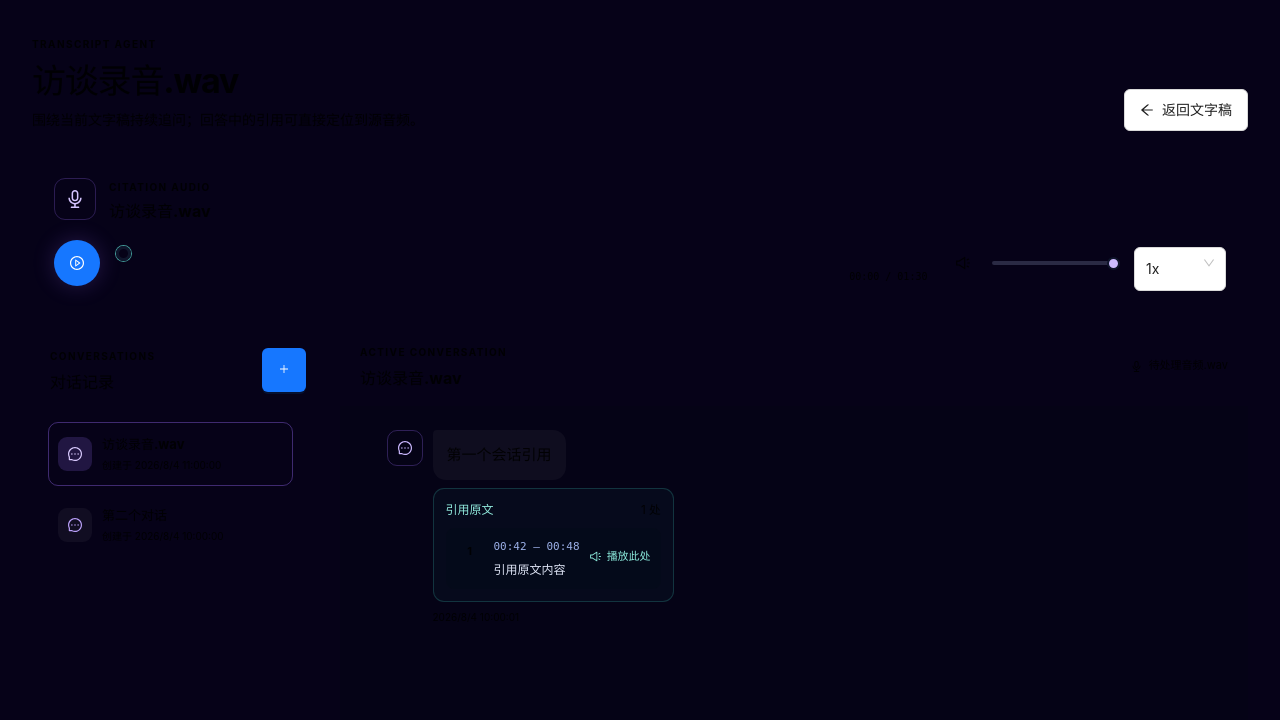
Test: AgentConversationPage › does not retain an active citation after switching conversations
What coordinates should you click on to do the following:
click the button with aria-label "播放引用 1，00:42 到 00:48"
I would click on:
 (553, 558)
Its box is [446, 528, 661, 589].
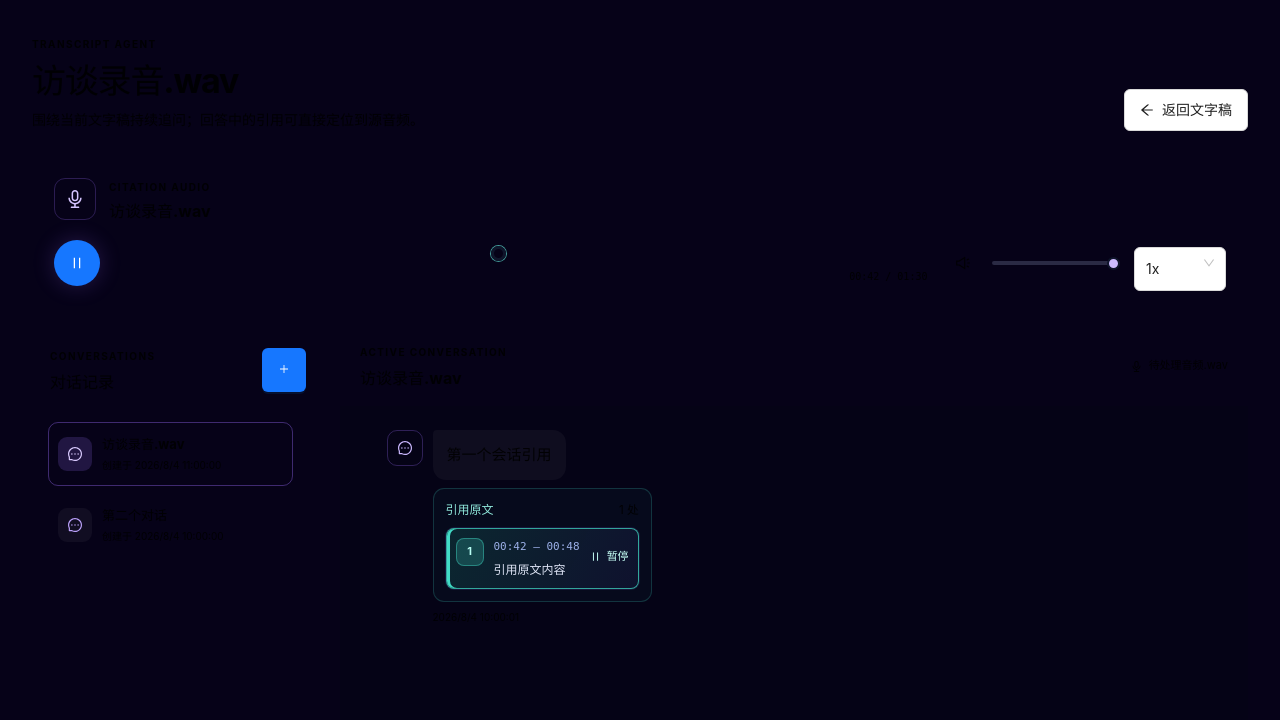
Expected: the number of buttons with class "agent-citation--active" is 1, [446, 528, 639, 589]
What coordinates should you click on to do the following:
click the button "第二个对话 创建于 2026/8/4 10:00:00"
I would click on:
 (170, 525)
Its box is [48, 493, 293, 557].
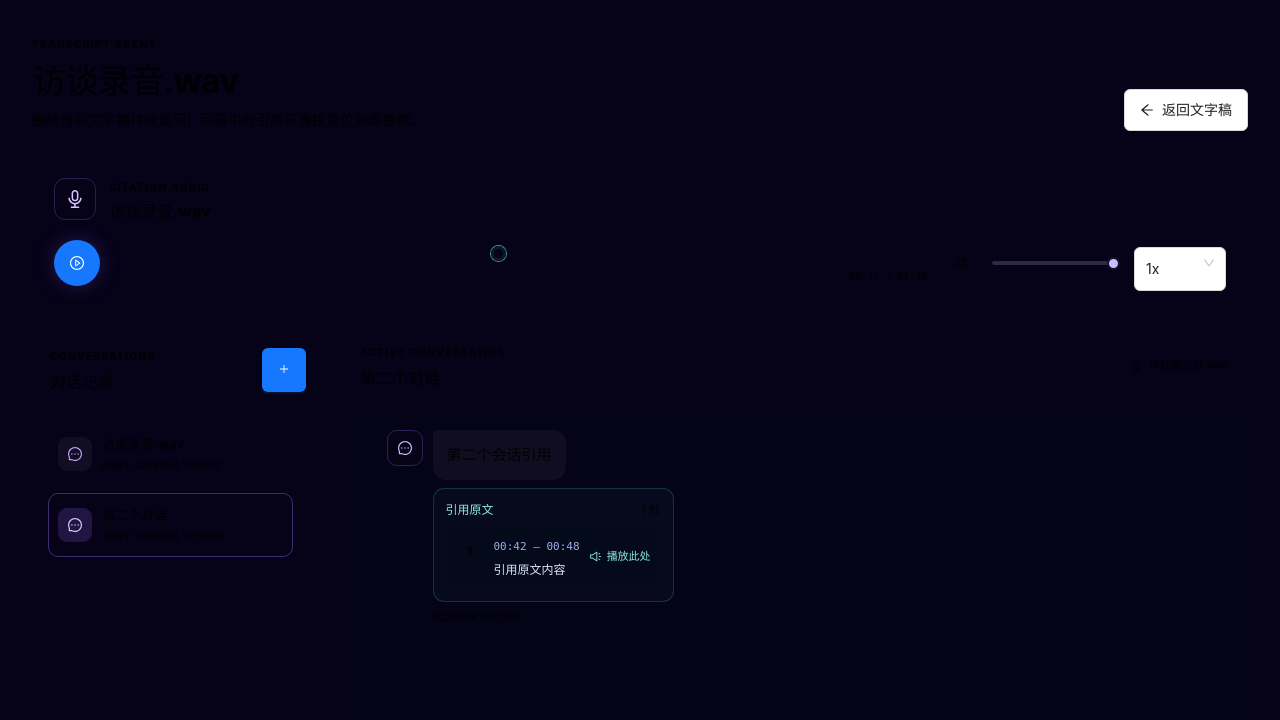
Expected: the text "第二个会话引用" is shown, [446, 442, 552, 468]
Expected: no buttons with class "agent-citation--active" are shown
